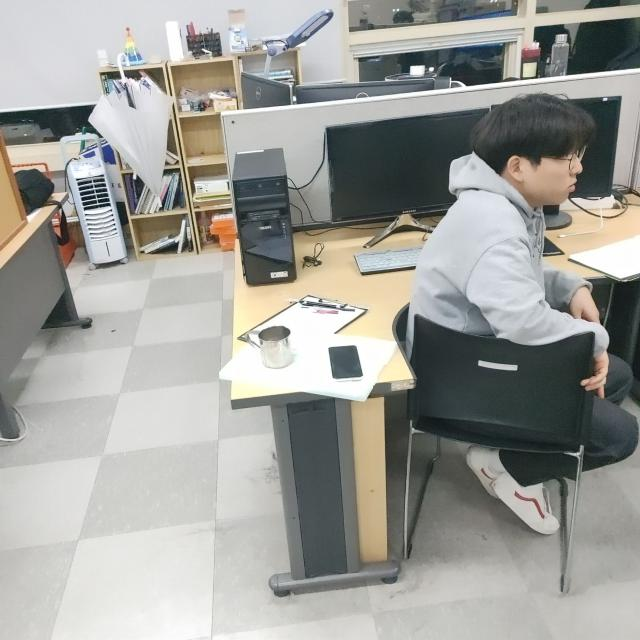cup: (246, 323, 296, 372)
phone: (323, 341, 365, 384)
